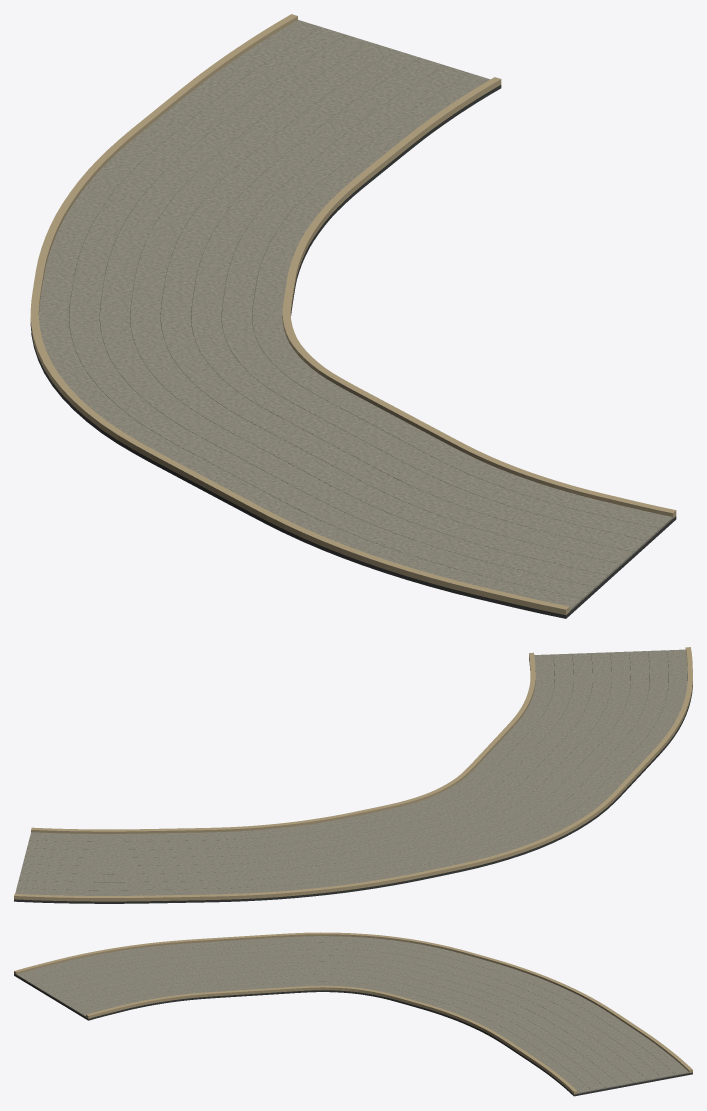
Rendered from track_main_17.fbx.
The picture shows the model from 3 angles, top to bottom: view 1: azimuth 30°, elevation 25°; view 2: azimuth 150°, elevation 25°; view 3: azimuth 270°, elevation 25°; orthographic projection. The views are drawn at different scales.
Visible parts, largest first — view 1: roman_concrete.001, travertine.001, basalt.001; view 2: roman_concrete.001, travertine.001, basalt.001; view 3: roman_concrete.001, travertine.001, basalt.001.
Boxes of the visible parts, x1,y1,x2,y2 form: roman_concrete.001: [39, 20, 672, 611]; travertine.001: [30, 14, 676, 614]; basalt.001: [30, 85, 676, 618]; roman_concrete.001: [15, 649, 687, 895]; travertine.001: [14, 647, 692, 901]; basalt.001: [14, 658, 692, 903]; roman_concrete.001: [16, 936, 689, 1093]; travertine.001: [14, 932, 692, 1094]; basalt.001: [14, 974, 692, 1096].
Bounding box in the file's own units: 296953 × 534571 × 4000.
